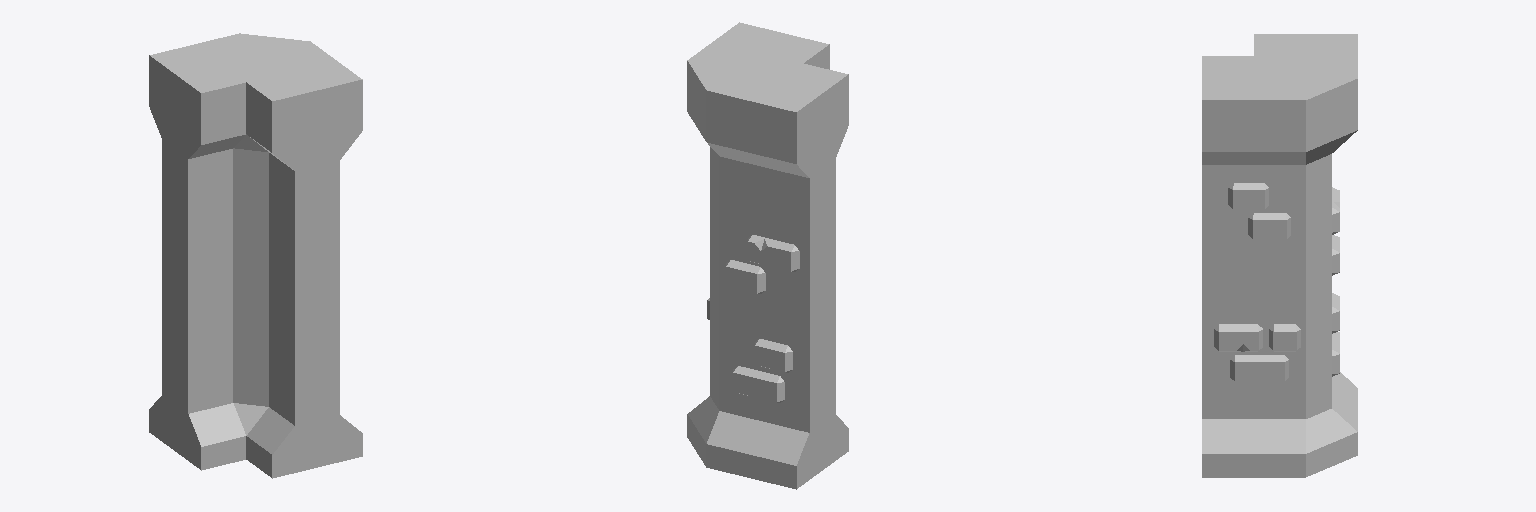
Rendered from wall_corner_small.obj.
The picture shows the model from 3 angles: view 1: azimuth 30°, elevation 25°; view 2: azimuth 150°, elevation 25°; view 3: azimuth 270°, elevation 25°; orthographic projection.
Parts seen in each view (by area): view 1: wall_corner_small_Cube.13149; view 2: wall_corner_small_Cube.13149; view 3: wall_corner_small_Cube.13149.
Boxes of the visible parts, x1,y1,x2,y2 form: wall_corner_small_Cube.13149: [149, 33, 362, 478]; wall_corner_small_Cube.13149: [687, 22, 848, 489]; wall_corner_small_Cube.13149: [1202, 34, 1357, 477].
Size of the model in its own units: 1.5 by 4 by 1.5.